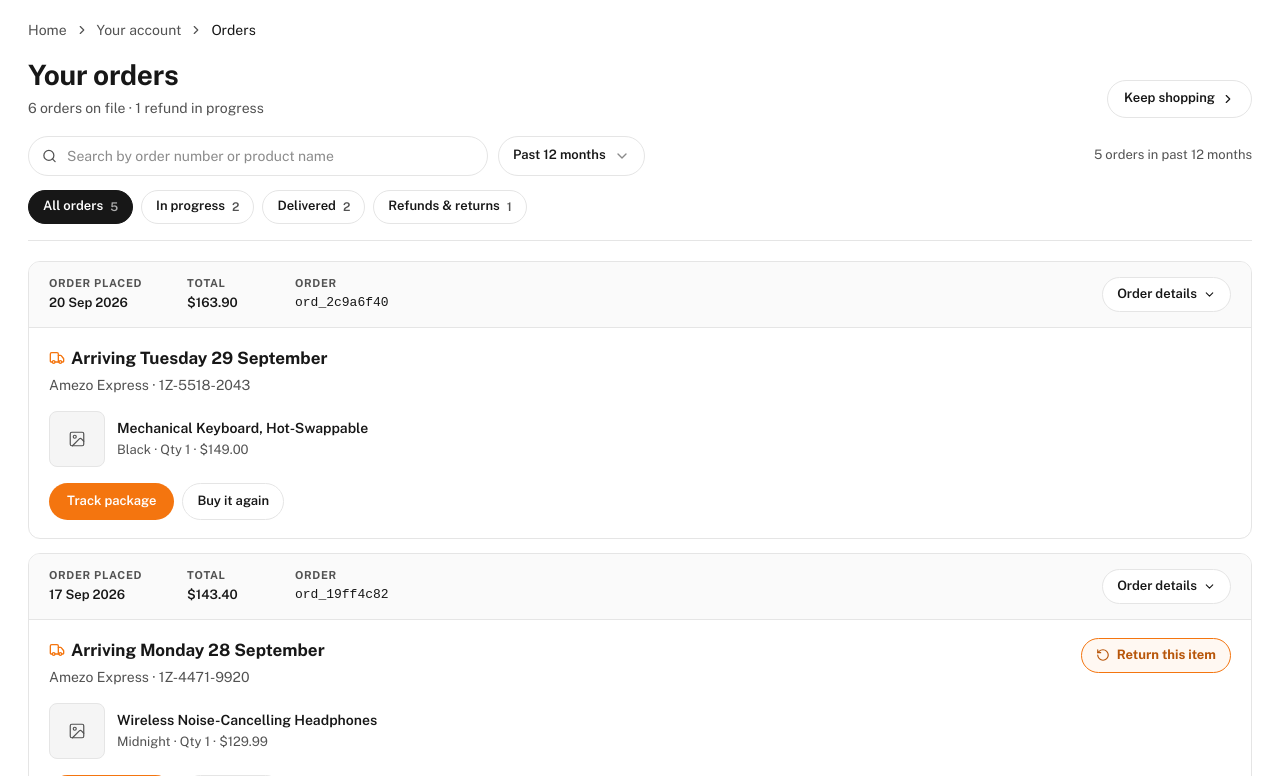
Scenario: MyOrders › offers exactly the four windows the design lists
Expected: the text "ord_19ff4c82" is shown, [295,587,389,602]
Click the dropdown named "Filter by date": (571, 156) [498,136,645,176]
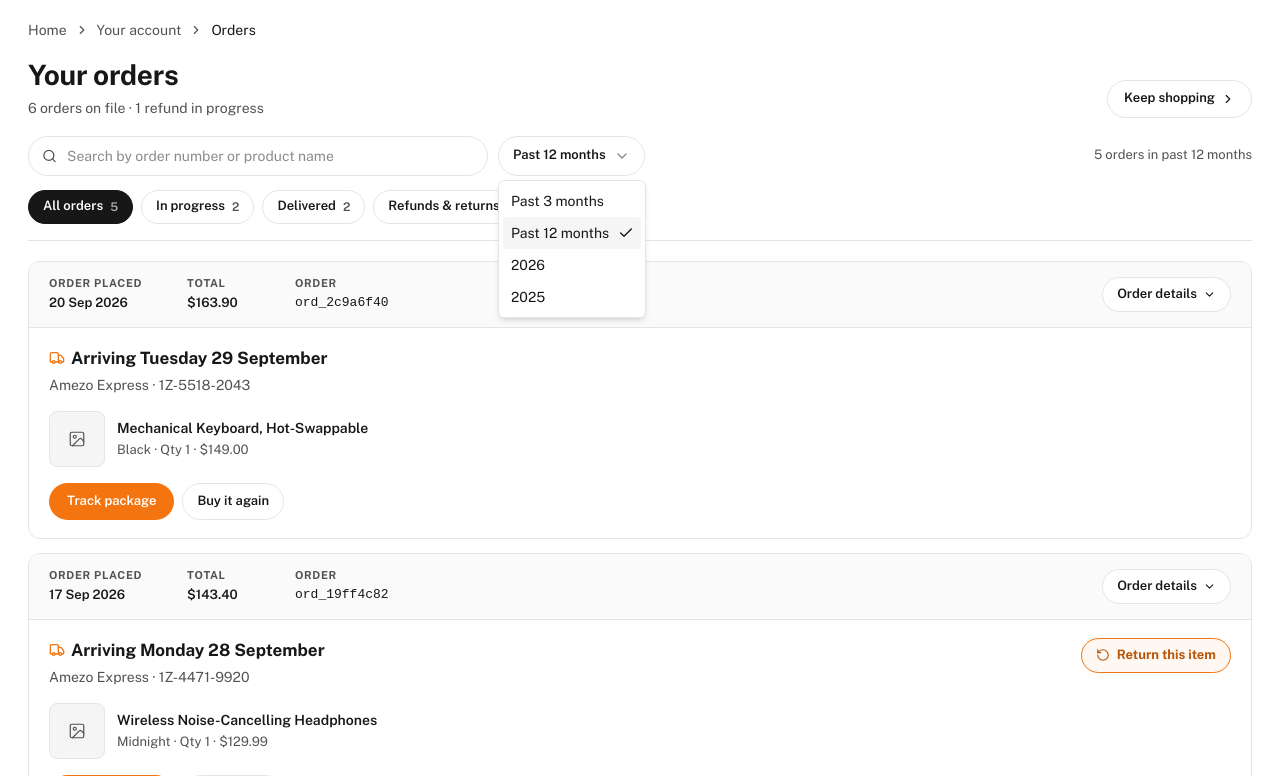
Now the options read "Past 3 months", "Past 12 months", "2026", "2025", in this order, box [511,193,604,209]; [503,217,641,249]; [511,257,545,273]; [511,289,545,305]
